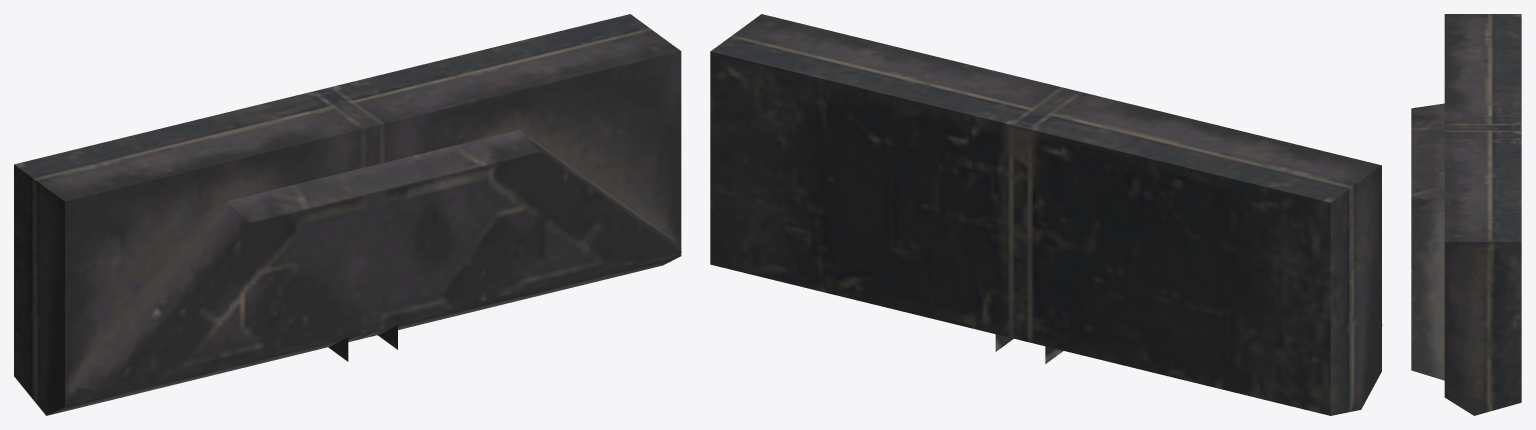
Rendered from segment_01_pair_1.glb.
3 renders of one model, left to right at view 1: azimuth 30°, elevation 25°; view 2: azimuth 150°, elevation 25°; view 3: azimuth 270°, elevation 25°, orthographic. The views are drawn at different scales.
Parts seen in each view (by area): view 1: set_0_group_0; view 2: set_0_group_0; view 3: set_0_group_0.
Part boxes in pixels (<box>): set_0_group_0: <box>14,14,681,415</box>; set_0_group_0: <box>710,14,1382,415</box>; set_0_group_0: <box>1411,14,1521,415</box>.
Size of the model in its own units: 0.4961 by 0.1764 by 0.1014.
1 material, 1 textured.
